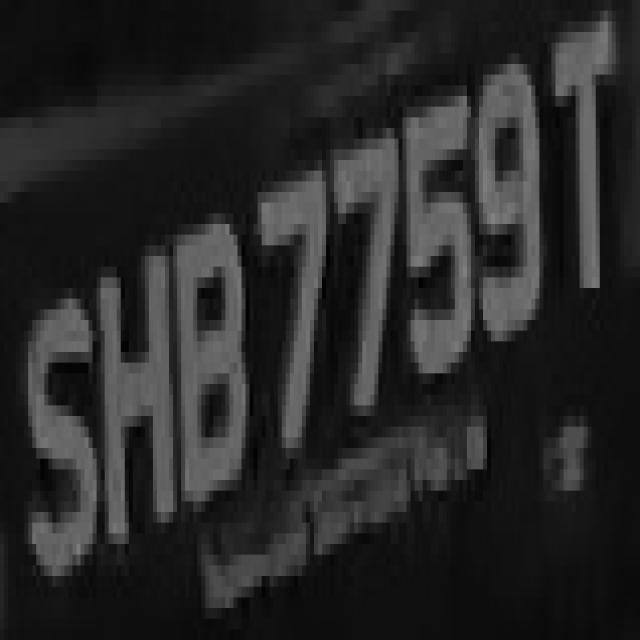5: (402, 75, 471, 416)
7: (242, 160, 342, 491), (326, 149, 411, 448)
9: (459, 43, 539, 384)
B: (169, 171, 262, 512)
H: (93, 235, 181, 533)
S: (16, 266, 93, 618)
T: (535, 32, 632, 331)
